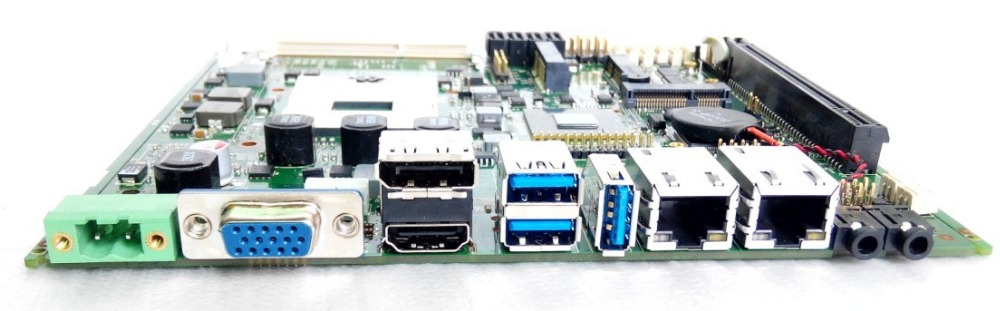Ethernet: (656, 191, 731, 254), (755, 189, 831, 247)
HDMI: (377, 220, 479, 259)
VGA: (222, 215, 320, 263)
